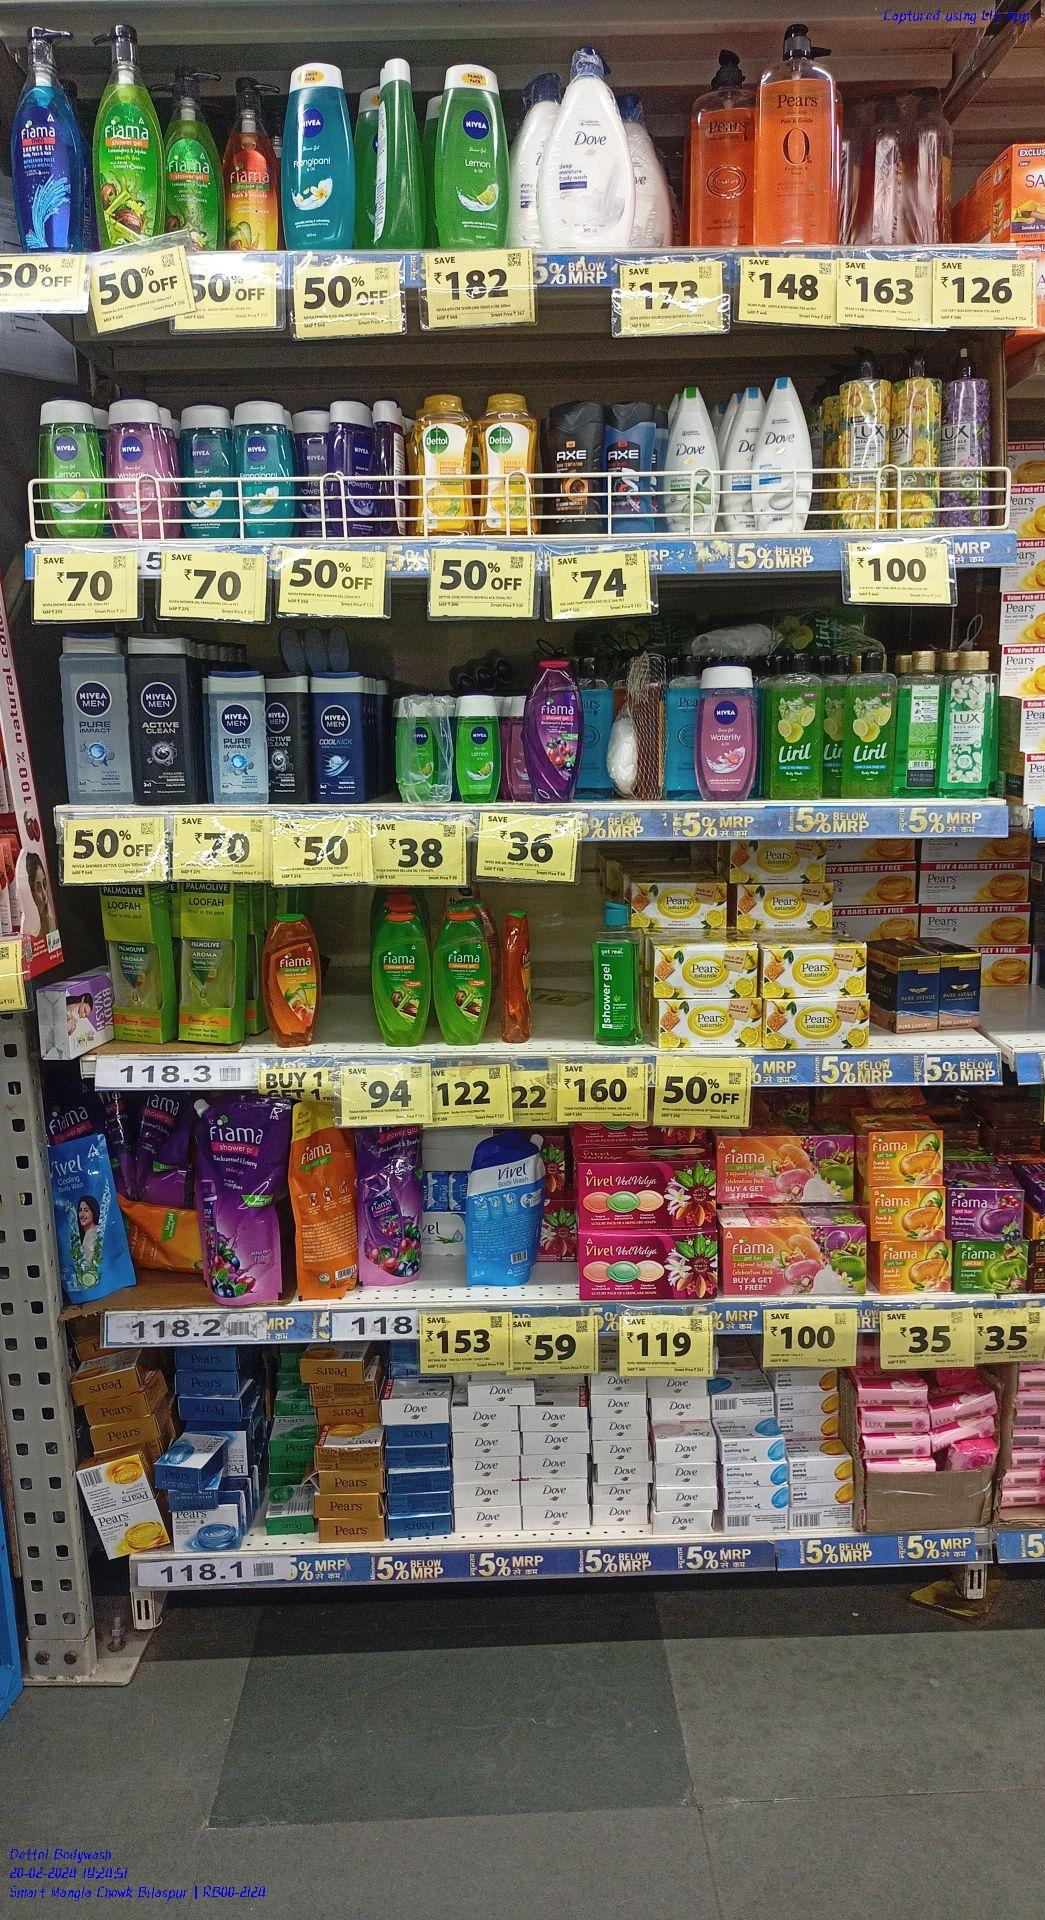Dettol_Bodywash_Refresh: (409, 391, 475, 535), (475, 391, 538, 534)
Dove_Gentle_Exfoliating_Body_Wash_250ML: (750, 376, 815, 531)
Dove_Refreshing_Body_Wash_250ML: (661, 386, 721, 534)
Fiama_Shower_Gel_Lemongrass_and_Jojoba_250ML: (368, 910, 434, 1046), (432, 910, 492, 1046)
Fiama_Shower_Gel_Peach_and_Avocado_250ML: (259, 910, 323, 1053)
Liril_Lime_and_Tea_Tree_Oil_Body_Wash_250ML: (840, 649, 898, 798), (768, 651, 825, 800)
Lux_Body_Wash_Skin_Detox_Freesia_Scent_and_Alove_Vera_245ML: (942, 649, 990, 798)
Nivea_Shower_Gel_Frangipani_and_Oil_250ML: (279, 59, 355, 251), (232, 398, 293, 538)
Nivea_Shower_Gel_Lemon_and_Oil_250ML: (432, 62, 511, 248), (36, 394, 106, 538)
Nivea_Shower_Gel_Waterlily_and_Oil_250ML: (106, 396, 170, 538), (695, 661, 757, 802)
